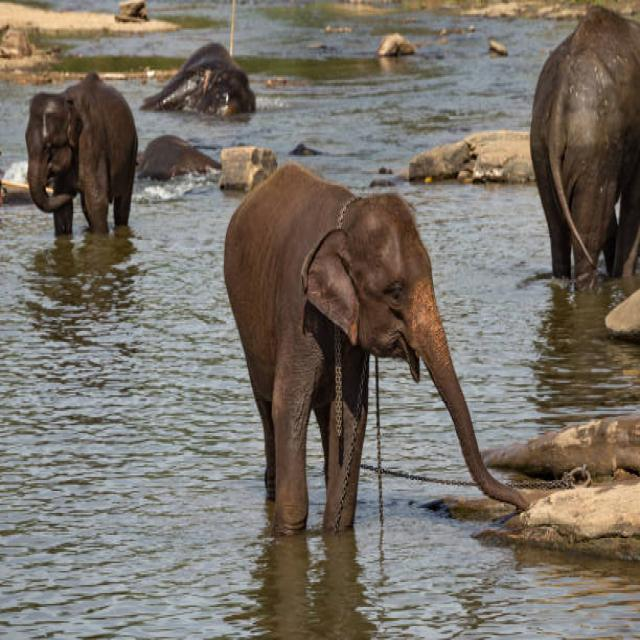Elephant: (214, 156, 519, 548), (529, 8, 640, 290), (19, 74, 142, 247)
